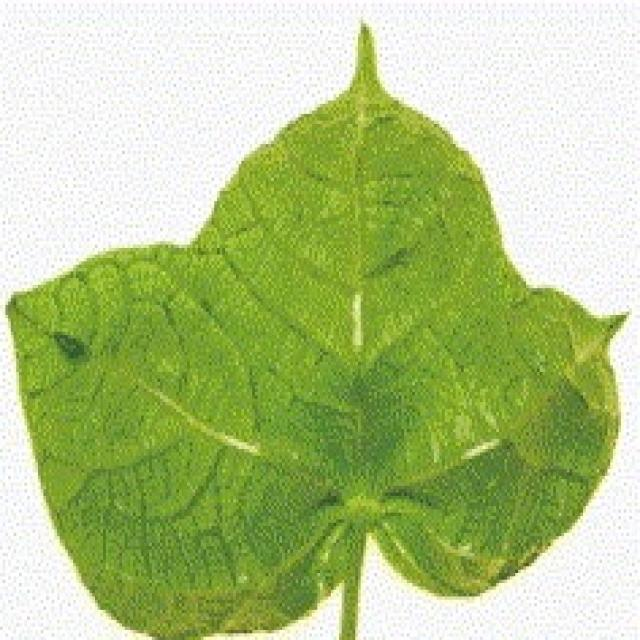Leaf Curl Virus: (76, 194, 583, 576)
